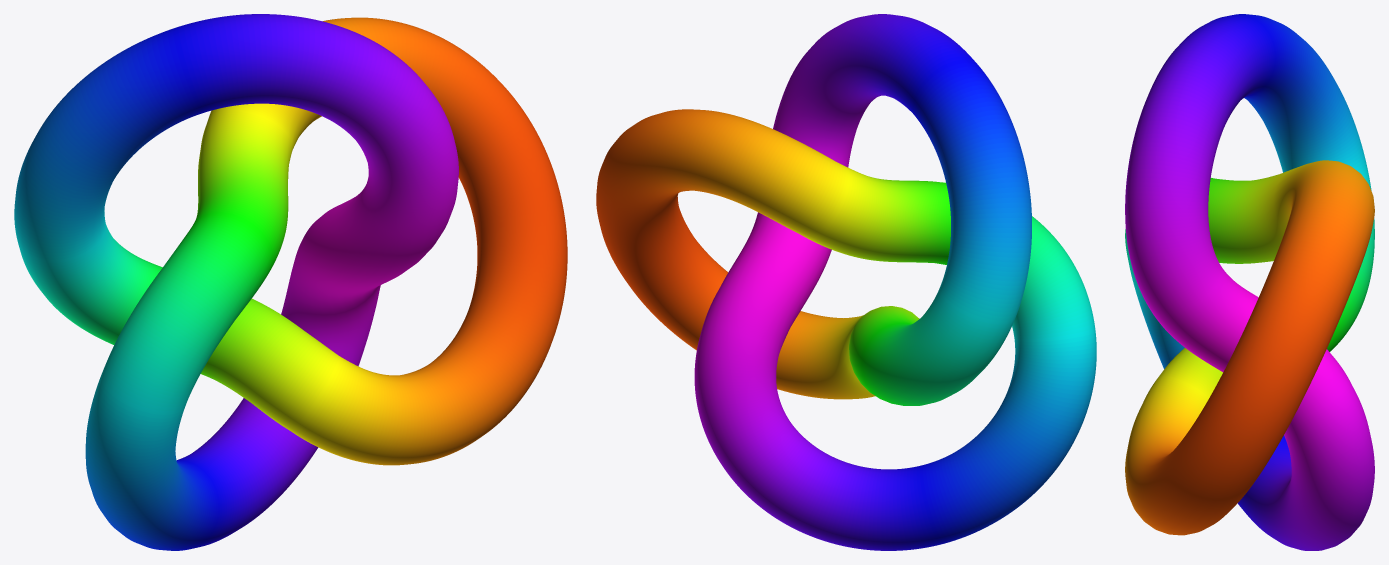
Rendered from gradient_knot.obj.
The picture shows the model from 3 angles, left to right: view 1: azimuth 30°, elevation 25°; view 2: azimuth 150°, elevation 25°; view 3: azimuth 270°, elevation 25°; orthographic projection. The views are drawn at different scales.
Bounding box in the file's own units: 6.36 × 6.66 × 3.
